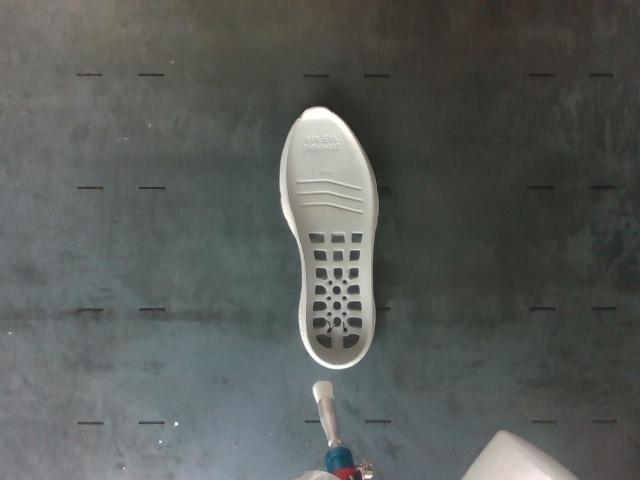shoes: (286, 108, 373, 366)
